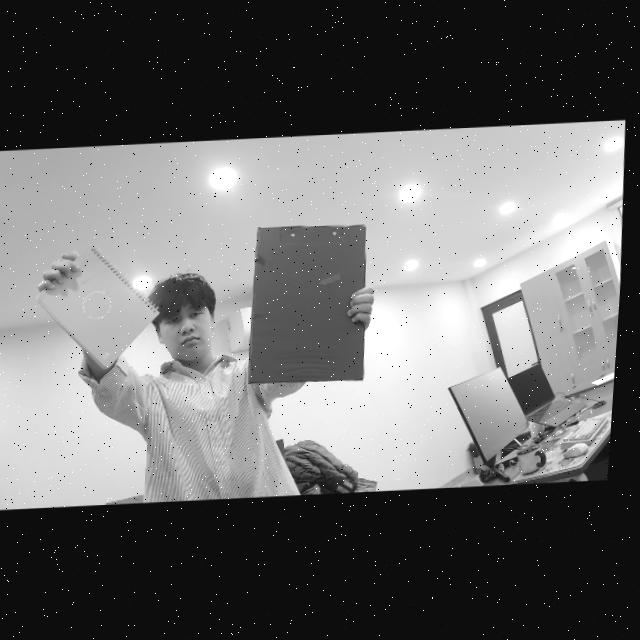document: (35, 243, 160, 372)
face: (158, 263, 212, 363)
